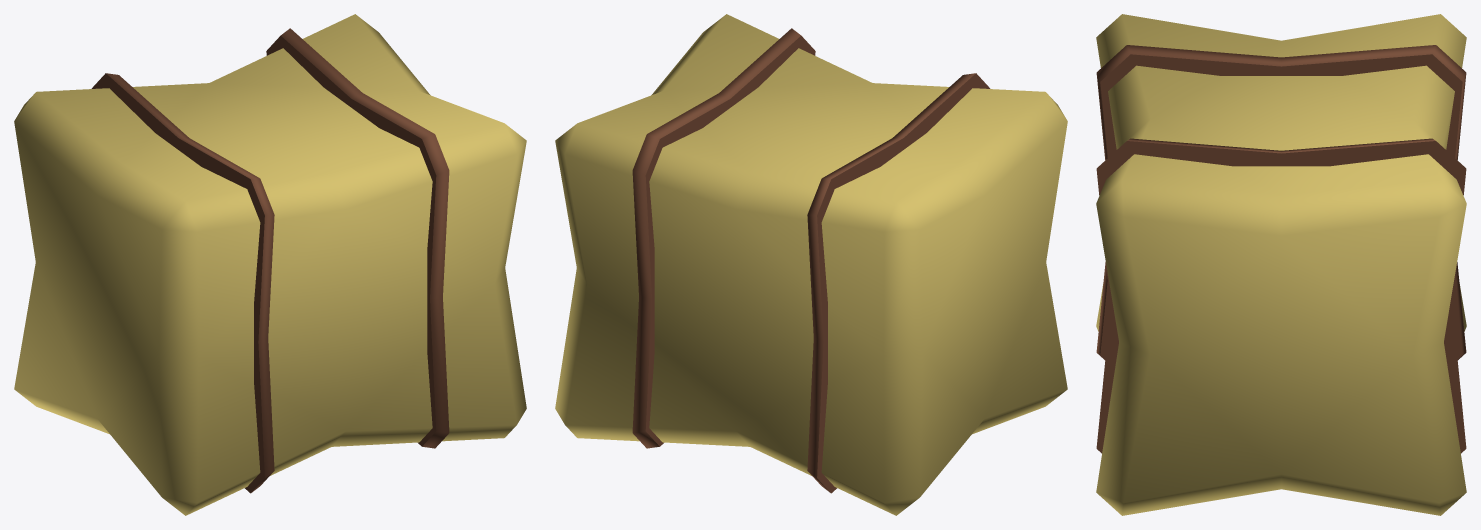
File: haybale_01.fbx
The picture shows the model from 3 angles, left to right: view 1: azimuth 30°, elevation 25°; view 2: azimuth 150°, elevation 25°; view 3: azimuth 270°, elevation 25°; orthographic projection. The views are drawn at different scales.
Visible parts, largest first — view 1: haybale_01; view 2: haybale_01; view 3: haybale_01.
Boxes of the visible parts, <box> form: haybale_01: <box>14,14,526,515</box>; haybale_01: <box>555,14,1067,515</box>; haybale_01: <box>1096,14,1466,515</box>.
Size of the model in its own units: 94.73 by 79.08 by 78.12.
